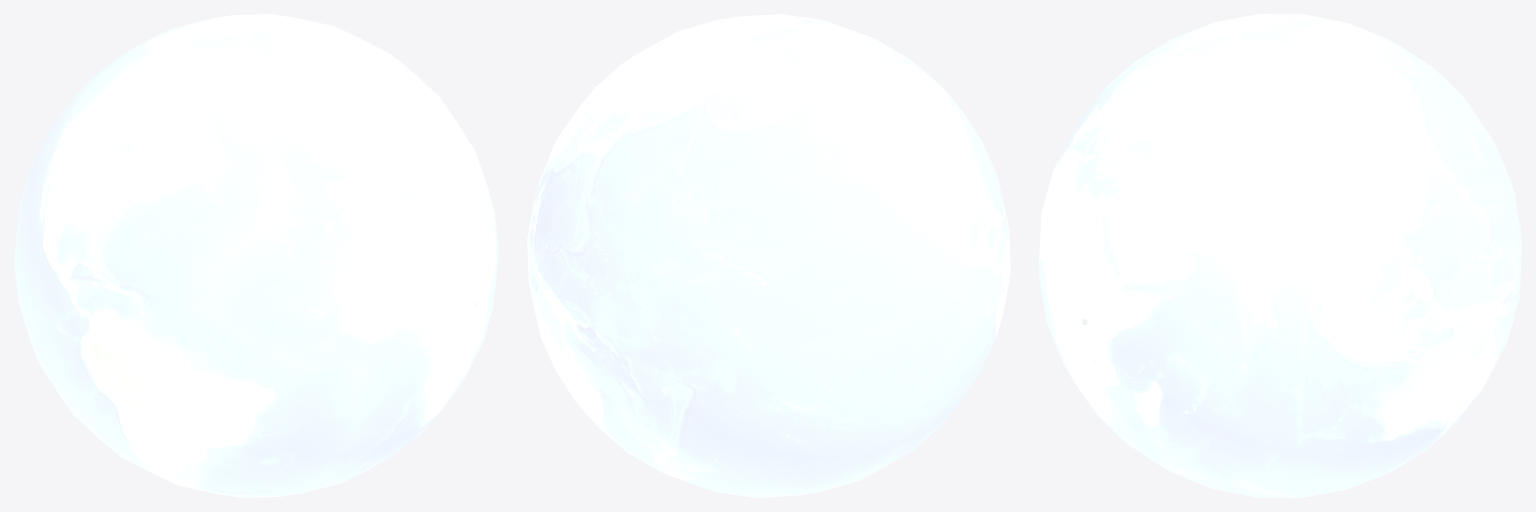
Rendered from earth.gltf.
3 views of the same model, side by side, from view 1: azimuth 30°, elevation 25°; view 2: azimuth 150°, elevation 25°; view 3: azimuth 270°, elevation 25° (orthographic).
Visible parts, largest first — view 1: Atmosphere_Cube.001; view 2: Atmosphere_Cube.001; view 3: Atmosphere_Cube.001.
Boxes of the visible parts, x1,y1,x2,y2 form: Atmosphere_Cube.001: [14, 14, 498, 497]; Atmosphere_Cube.001: [527, 14, 1010, 497]; Atmosphere_Cube.001: [1039, 14, 1521, 497].
Bounding box in the file's own units: 6.39 × 6.41 × 6.39.
1 material, 1 textured.
